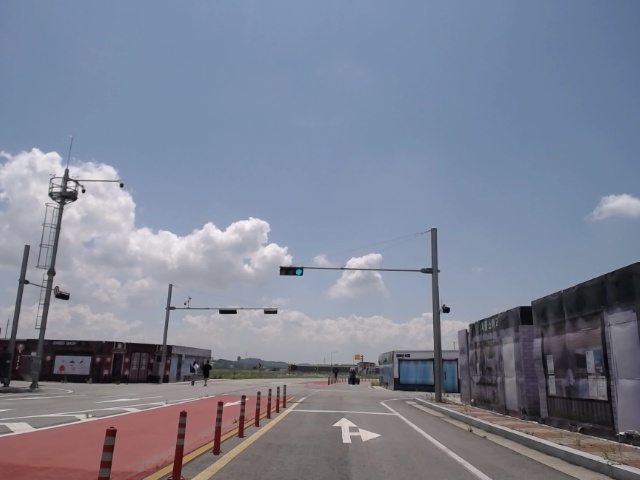green_3: (279, 266, 302, 276)
